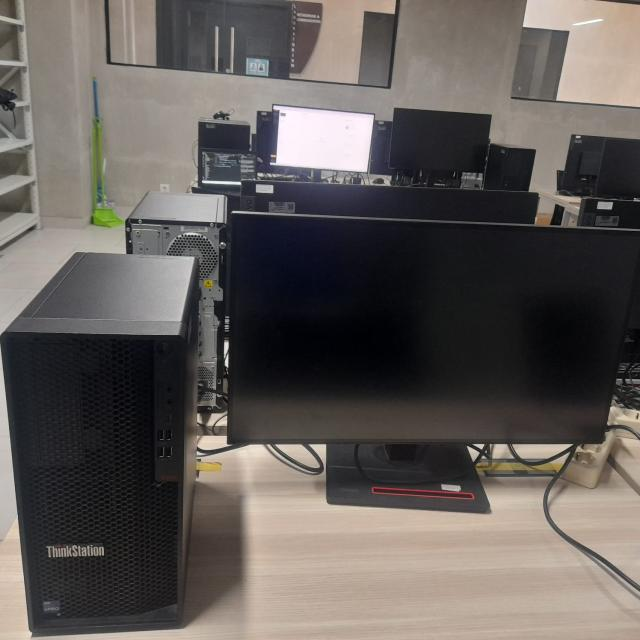monitor: (226, 211, 640, 514), (388, 108, 492, 188), (268, 104, 375, 180)
pc: (0, 252, 200, 637), (125, 190, 227, 413)
